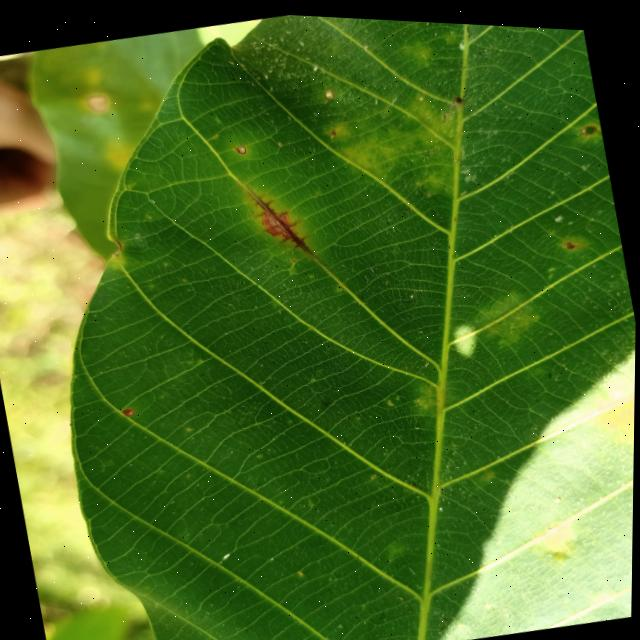Colletotrichum: (324, 86, 335, 97), (238, 143, 247, 153)
Corynespora: (250, 182, 315, 262)
